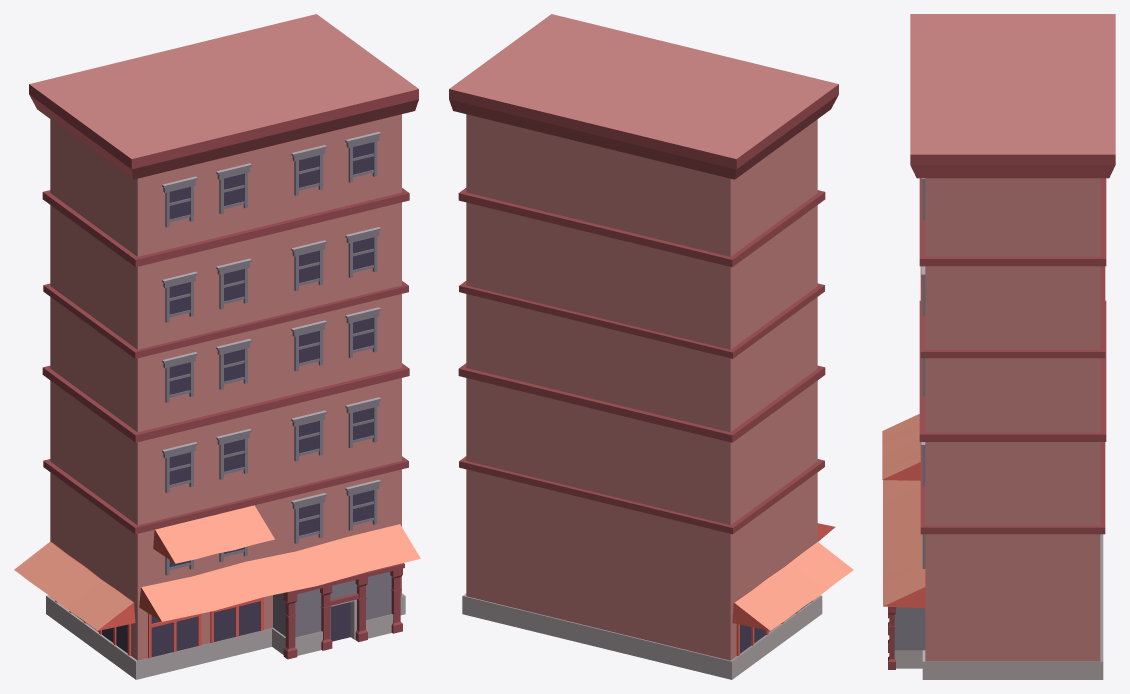
The model's file is rectangle building r.fbx.
3 renders of one model, left to right at view 1: azimuth 30°, elevation 25°; view 2: azimuth 150°, elevation 25°; view 3: azimuth 270°, elevation 25°, orthographic.
Parts seen in each view (by area): view 1: pCube9 (×3), pCube17, pCube21, pCube18, pCube26, pCube25, pCube6, pCube7, pCube2, pCube8, pCube5; view 2: pCube9 (×3), pCube21; view 3: pCube9 (×3), pCube17, pCube18, pCube7.
Boxes of the visible parts, box(x1,y1,x2,y2) form: pCube9 (×3): box(29, 14, 418, 679); pCube17: box(139, 524, 420, 621); pCube21: box(14, 541, 135, 630); pCube18: box(153, 505, 274, 563); pCube26: box(151, 615, 197, 657); pCube25: box(214, 601, 260, 641); pCube6: box(283, 594, 297, 659); pCube7: box(390, 568, 402, 633); pCube2: box(320, 586, 332, 650); pCube8: box(355, 577, 367, 641); pCube5: box(283, 563, 404, 596); pCube9 (×3): box(449, 14, 838, 679); pCube21: box(732, 542, 853, 630); pCube9 (×3): box(894, 14, 1115, 679); pCube17: box(883, 480, 925, 608); pCube18: box(882, 414, 920, 480); pCube7: box(888, 606, 895, 669).
Size of the model in its own units: 16.82 by 27.19 by 10.88.
